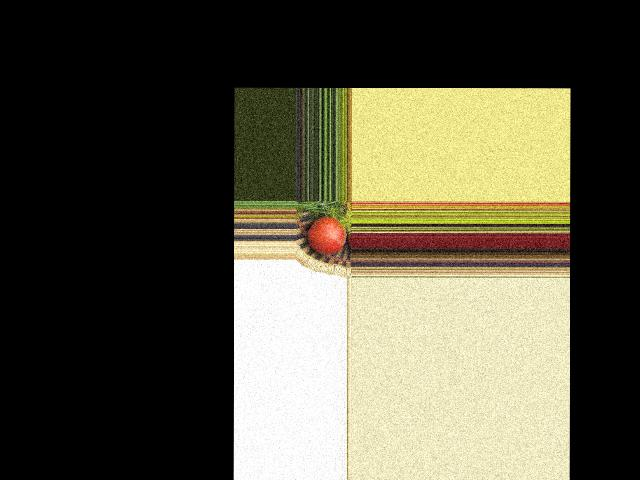tomato: (307, 215, 346, 254)
